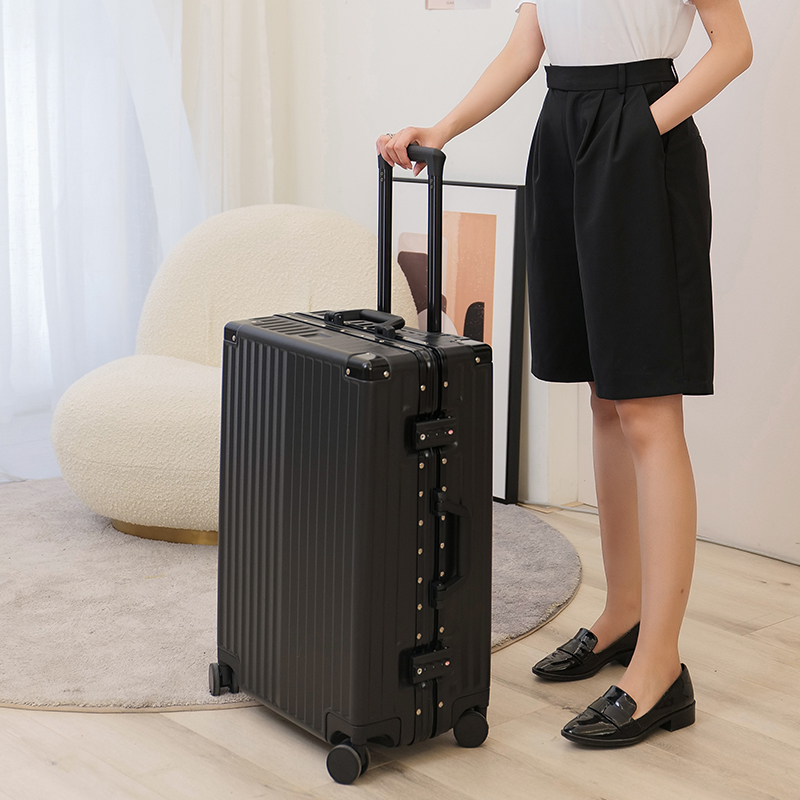box: (214, 311, 493, 748)
handle: (428, 490, 471, 610), (324, 308, 407, 339)
lock: (409, 646, 454, 682), (414, 417, 457, 451)
wheel: (326, 737, 371, 785), (453, 711, 489, 748), (209, 661, 240, 696)
